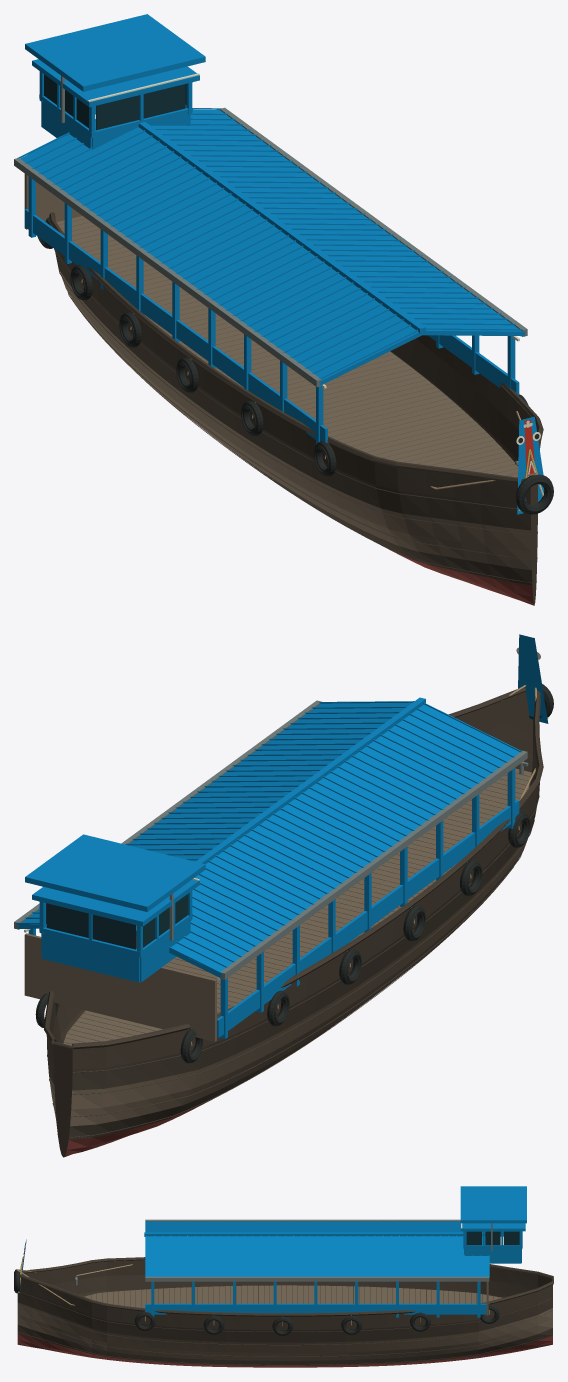
Rendered from covered-cargo-boat.glb.
3 renders of one model, top to bottom at view 1: azimuth 30°, elevation 25°; view 2: azimuth 150°, elevation 25°; view 3: azimuth 270°, elevation 25°, orthographic. The views are drawn at different scales.
Parts seen in each view (by area): view 1: roof__blue, roof_details__blue, deck_boards__wood.001, hull_planks__wood_dark, hull_planks__wood, steering_shelter_roof__blue, canopy_side_panels__blue, hull_inner__wood_dark.001, roof_trim__metal, canopy_supports__blue, gunwale__wood_dark.001, tire_fenders__rubber.001 (+9 smaller); view 2: roof__blue, roof_details__blue, hull_planks__wood_dark, hull_planks__wood, deck_boards__wood.001, stern_bulkhead__wood, steering_shelter_roof__blue, canopy_side_panels__blue, roof_trim__metal, gunwale__wood_dark.001, wheelhouse_walls__blue.001, hull_inner__wood_dark.001 (+10 smaller); view 3: roof__blue, hull_planks__wood_dark, hull_planks__wood, hull_inner__wood_dark.001, deck_boards__wood.001, roof_details__blue, canopy_side_panels__blue, roof_trim__metal, steering_shelter_roof__blue, gunwale__wood_dark.001, hull_planks__red_under, plank_seams__wood_dark.001 (+7 smaller).
Boxes of the visible parts, x1=… form: roof__blue: x1=20, y1=110, x2=525, y2=385; roof_details__blue: x1=17, y1=108, x2=522, y2=378; deck_boards__wood.001: x1=56, y1=216, x2=518, y2=476; hull_planks__wood_dark: x1=53, y1=227, x2=532, y2=585; hull_planks__wood: x1=59, y1=269, x2=531, y2=570; steering_shelter_roof__blue: x1=25, y1=14, x2=205, y2=91; canopy_side_panels__blue: x1=24, y1=209, x2=519, y2=442; hull_inner__wood_dark.001: x1=390, y1=335, x2=537, y2=465; roof_trim__metal: x1=14, y1=107, x2=527, y2=386; canopy_supports__blue: x1=28, y1=176, x2=515, y2=444; gunwale__wood_dark.001: x1=49, y1=212, x2=543, y2=483; tire_fenders__rubber.001: x1=40, y1=217, x2=553, y2=514; roof__blue: x1=16, y1=702, x2=519, y2=978; roof_details__blue: x1=16, y1=697, x2=522, y2=974; hull_planks__wood_dark: x1=46, y1=782, x2=539, y2=1139; hull_planks__wood: x1=49, y1=831, x2=530, y2=1126; deck_boards__wood.001: x1=63, y1=768, x2=531, y2=1045; stern_bulkhead__wood: x1=24, y1=933, x2=216, y2=1041; steering_shelter_roof__blue: x1=25, y1=834, x2=205, y2=911; canopy_side_panels__blue: x1=217, y1=800, x2=519, y2=1037; roof_trim__metal: x1=14, y1=700, x2=527, y2=979; gunwale__wood_dark.001: x1=44, y1=687, x2=543, y2=1049; wheelhouse_walls__blue.001: x1=41, y1=920, x2=190, y2=982; hull_inner__wood_dark.001: x1=49, y1=692, x2=537, y2=1043; roof__blue: x1=145, y1=1221, x2=488, y2=1276; hull_planks__wood_dark: x1=17, y1=1278, x2=552, y2=1365; hull_planks__wood: x1=17, y1=1302, x2=552, y2=1360; hull_inner__wood_dark.001: x1=22, y1=1260, x2=551, y2=1307; deck_boards__wood.001: x1=84, y1=1285, x2=502, y2=1308; roof_details__blue: x1=144, y1=1220, x2=489, y2=1277; canopy_side_panels__blue: x1=145, y1=1303, x2=486, y2=1314; roof_trim__metal: x1=145, y1=1219, x2=489, y2=1281; steering_shelter_roof__blue: x1=460, y1=1186, x2=526, y2=1223; gunwale__wood_dark.001: x1=19, y1=1257, x2=553, y2=1316; hull_planks__red_under: x1=17, y1=1333, x2=552, y2=1367; plank_seams__wood_dark.001: x1=18, y1=1291, x2=552, y2=1365.
Size of the model in its own units: 6.07 by 6.87 by 21.19.
